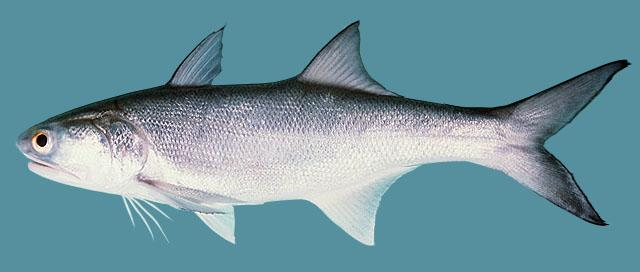Mulut: (2, 121, 98, 207)
Sirip Anal: (303, 160, 433, 251)
Sirip Dada: (134, 172, 232, 222)
Sirip Ekor: (479, 48, 638, 240)
Sirip Perut: (184, 190, 244, 254)
Sirip Punggung: (154, 14, 418, 110)
